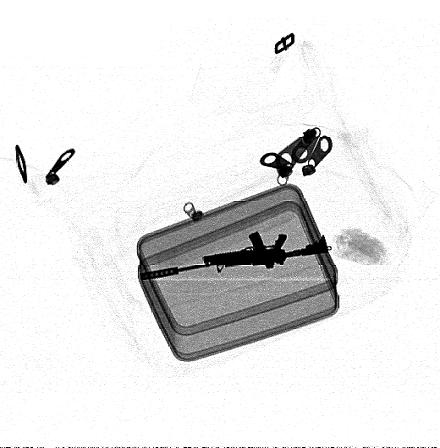Gun: (140, 229, 330, 283)
